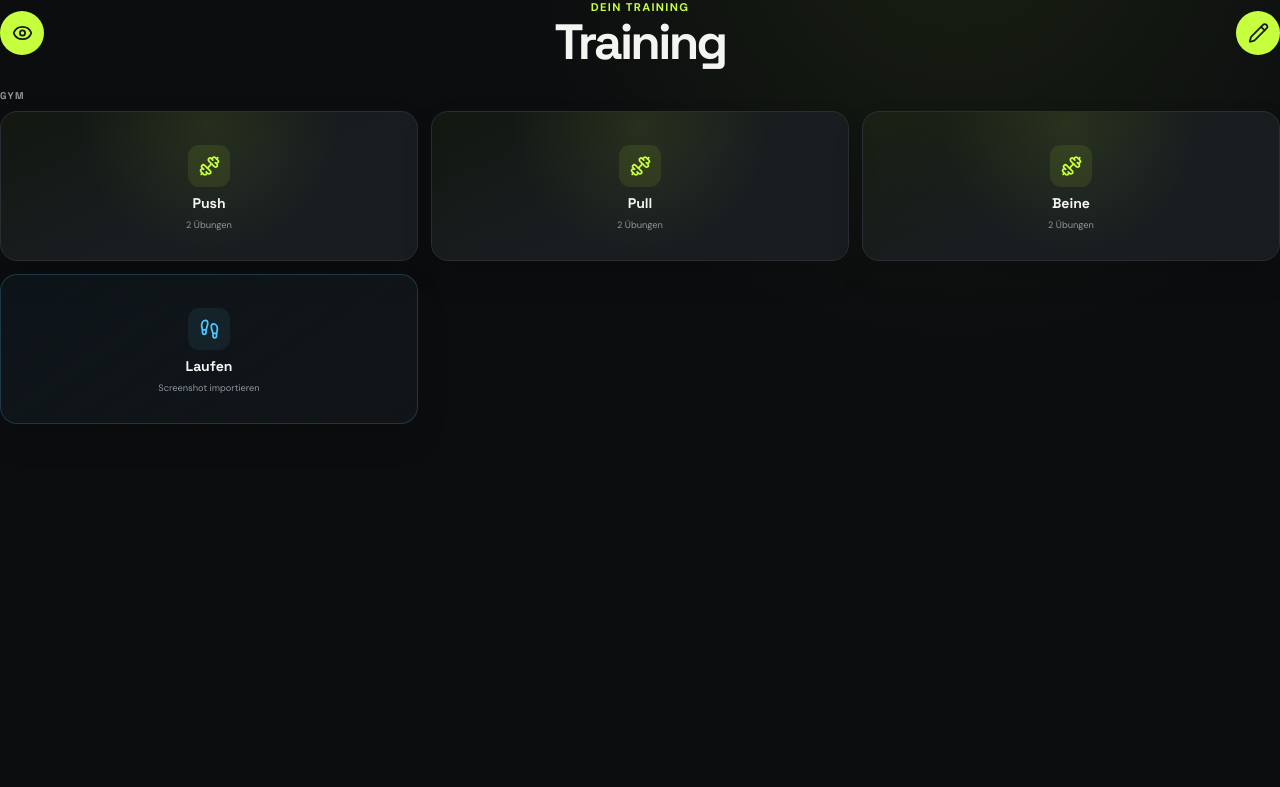
Test: GYM-Workflow › macht die Gewichtsprogression auch in der visuellen Demo sichtbar
Click the button named "Trainingsverlauf öffnen" at (22, 33), box [0,11,44,55]
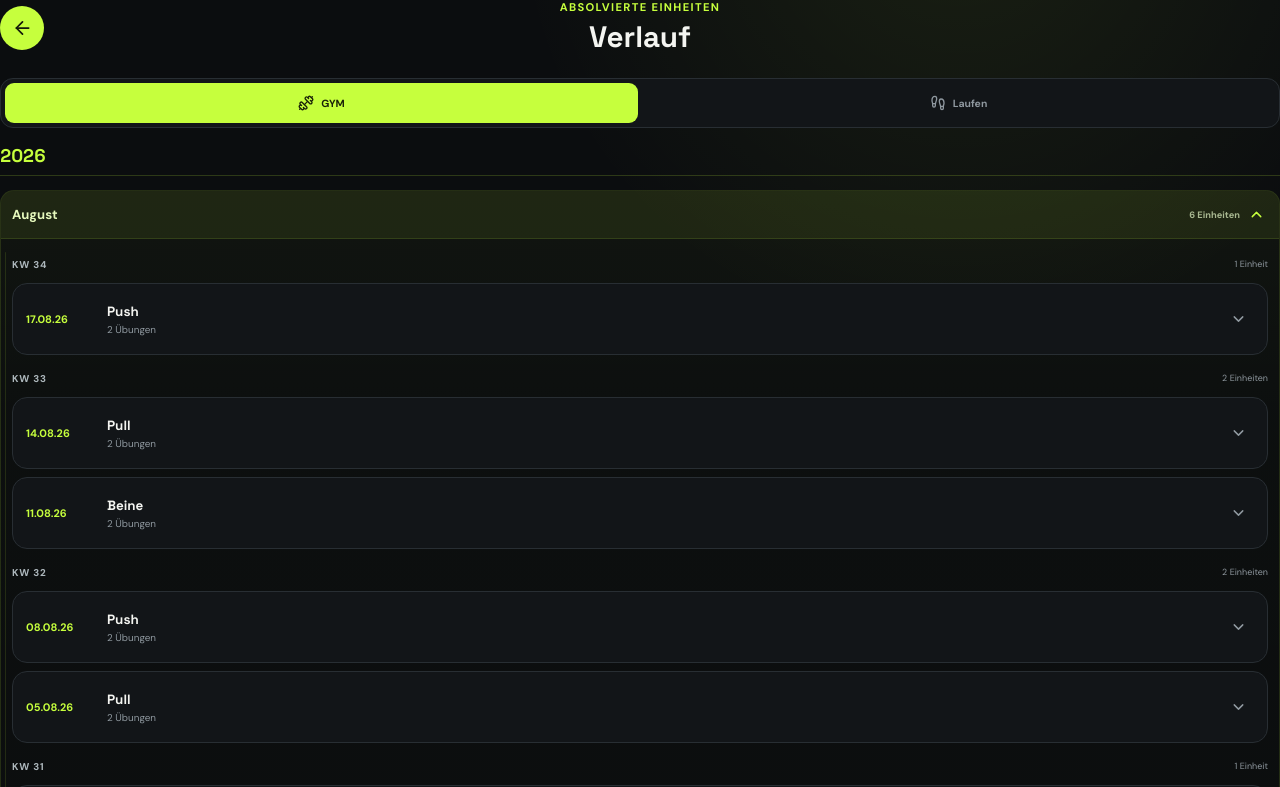
Click the button "17.08.26 Push 2 Übungen" at (47, 319), box [13,284,1267,354]
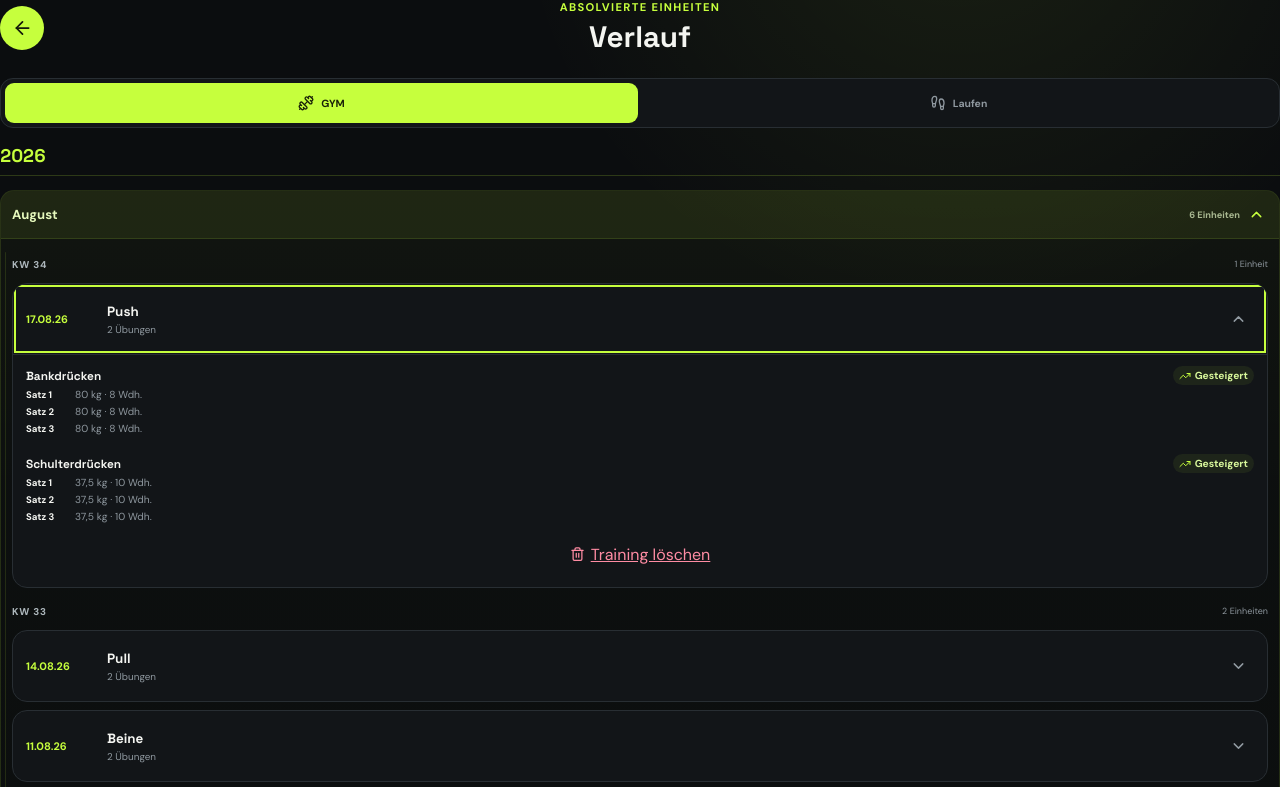
Result: the text "Gesteigert" is shown 2 times at [1195,369,1248,382]; [1195,457,1248,470]
